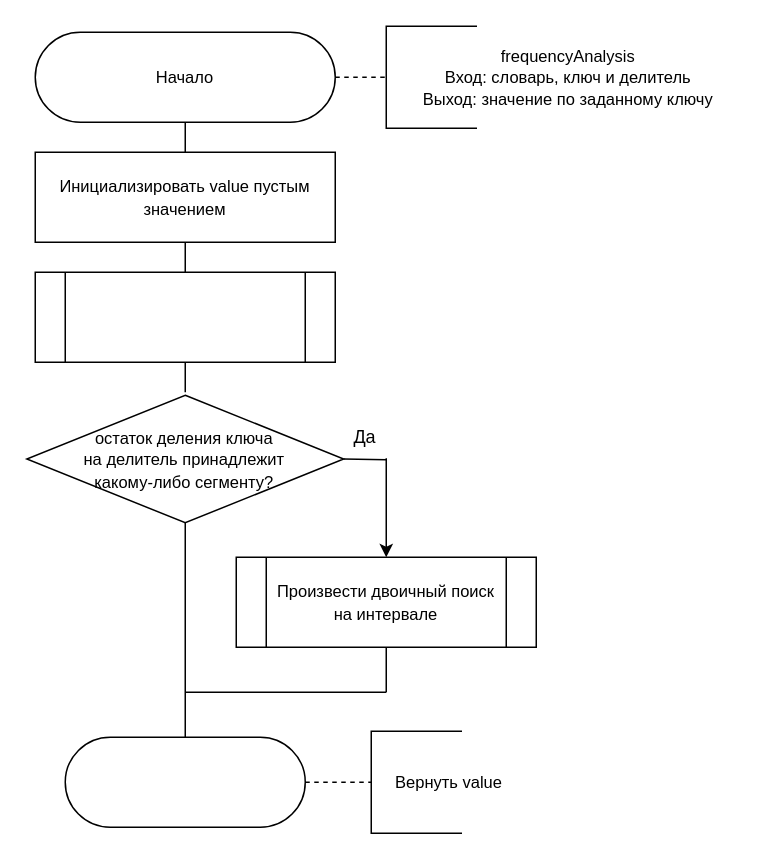
The diagram is 782 pixels wide and 860 high, and some of its shapes have lost their labels. The centre of each missing label's shape, as x and y in pixels:
"Конец" belongs at [184,781].
"Разбить словарь на интервалы" belongs at [184,316].
